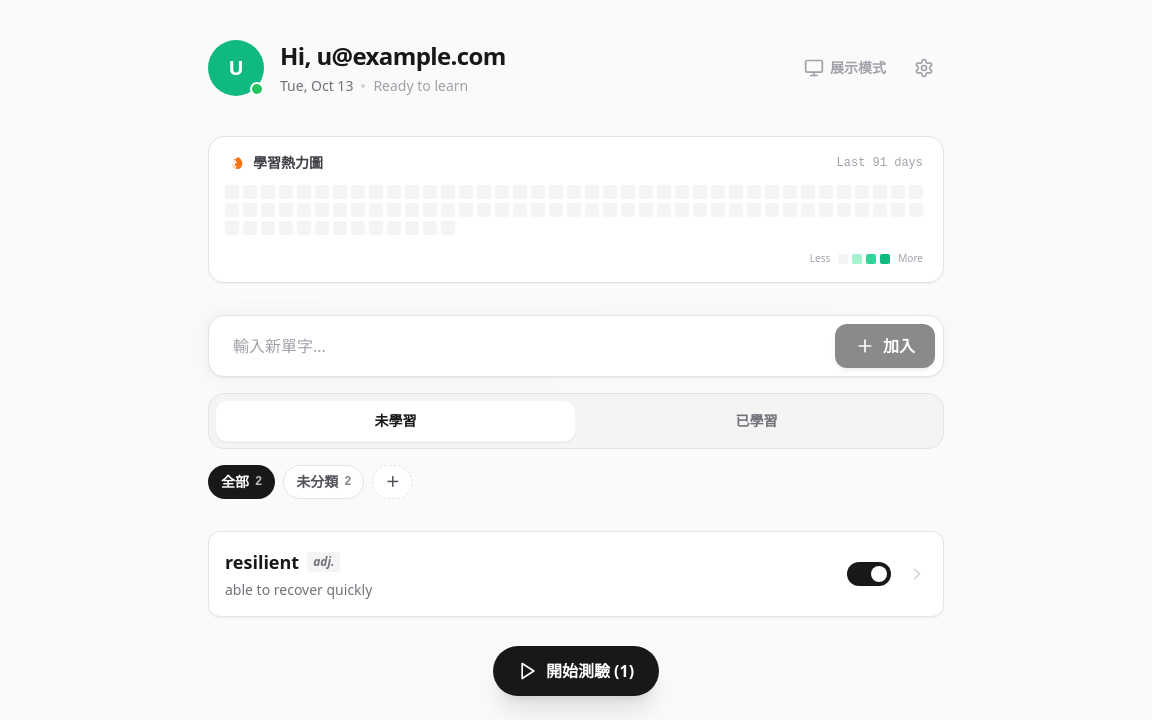
Test case: 有開啟測驗的字 → 出現開始測驗按鈕,點擊開啟測驗選擇
This screenshot has width=1152, height=720.
Click the button "開始測驗 (1)": (576, 671) x1=493 y1=646 x2=659 y2=696
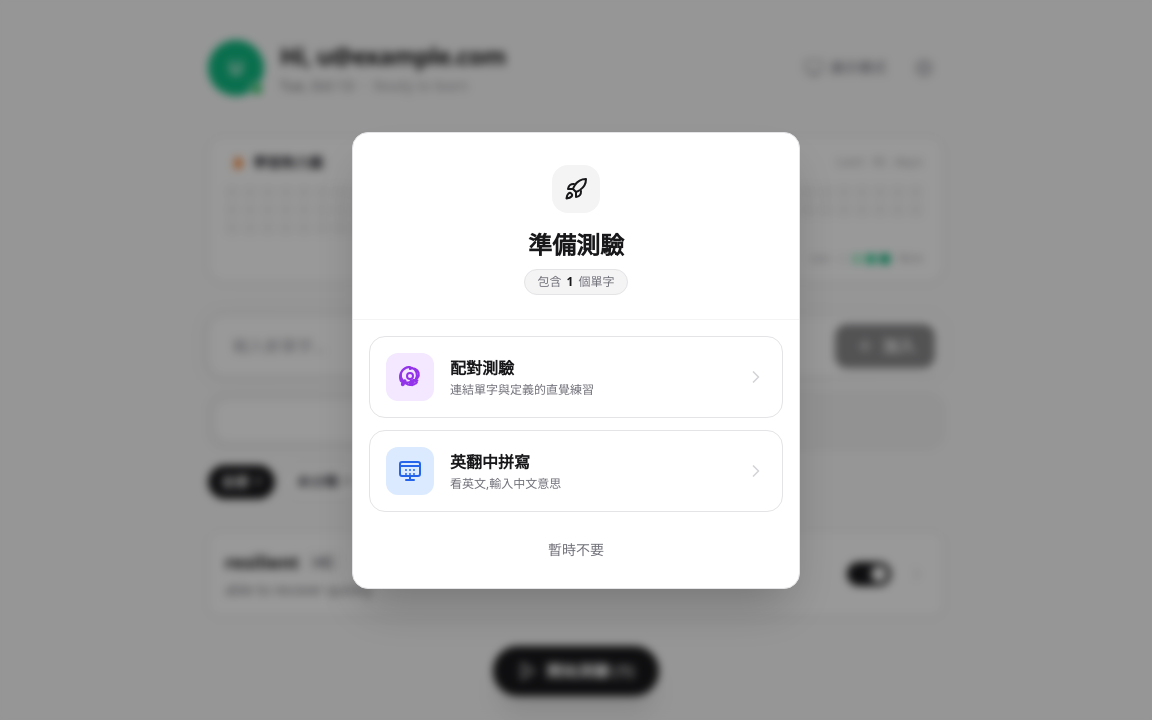
Expected: the heading "準備測驗" is shown, x1=528 y1=228 x2=624 y2=260
Expected: the heading "配對測驗" is shown, x1=450 y1=356 x2=514 y2=378
